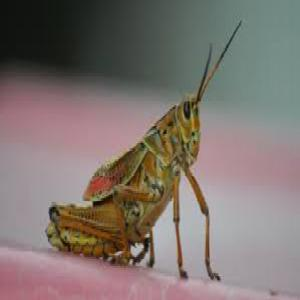locust: (58, 40, 228, 280)
